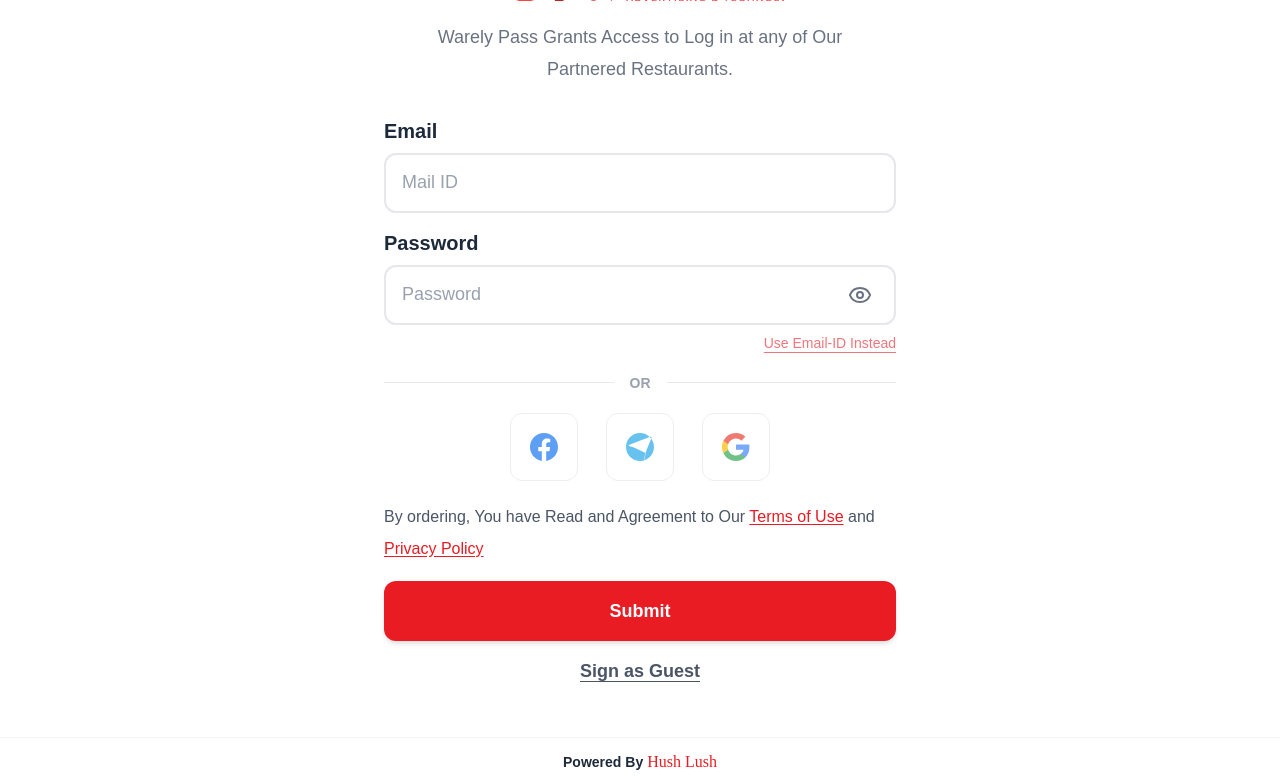
Test case: Login validation › clears a field error once the user types again
(page scrolled)
Step 1. Click the button "Submit" → click(640, 610), box [384,580,896,640]
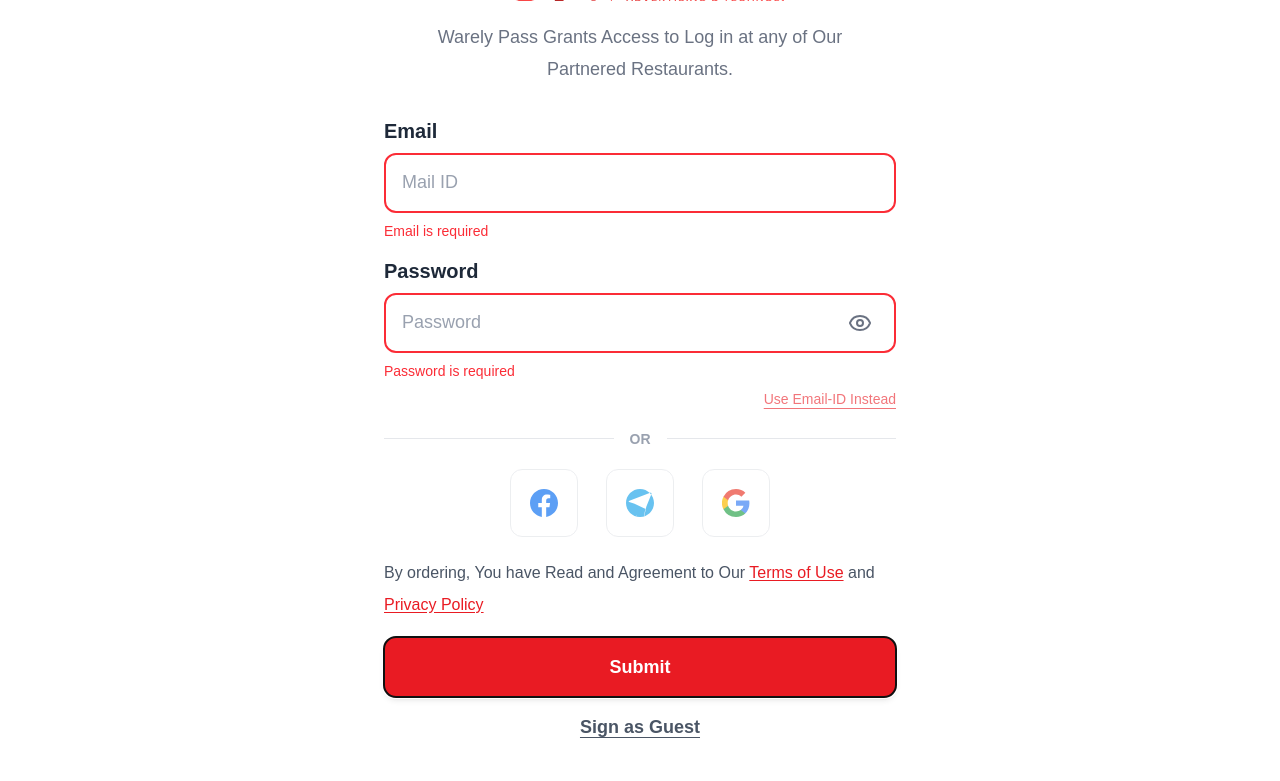
Now the text "Email is required" is shown, box [384,222,488,238]
Step 2. Type "a" into the field labelled "Email" → (640, 182), box [384,152,896,212]
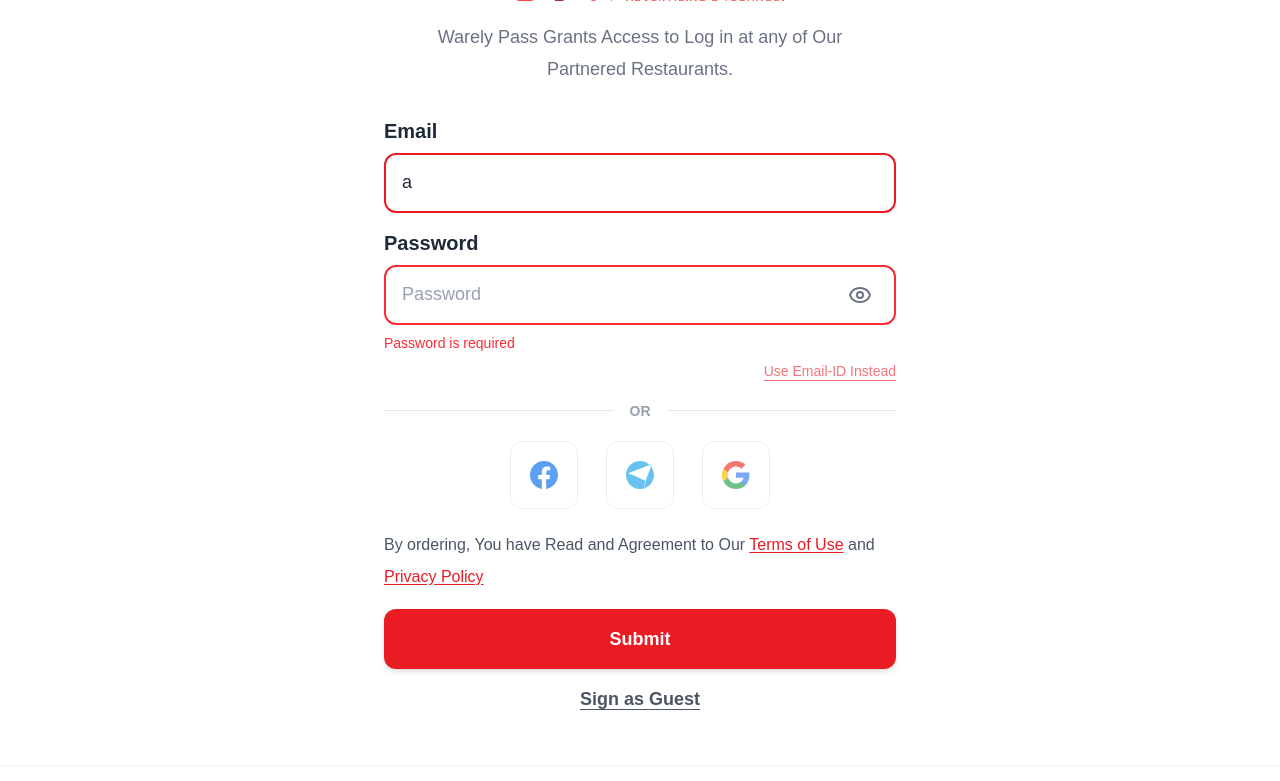
Now the text "Email is required" is gone
